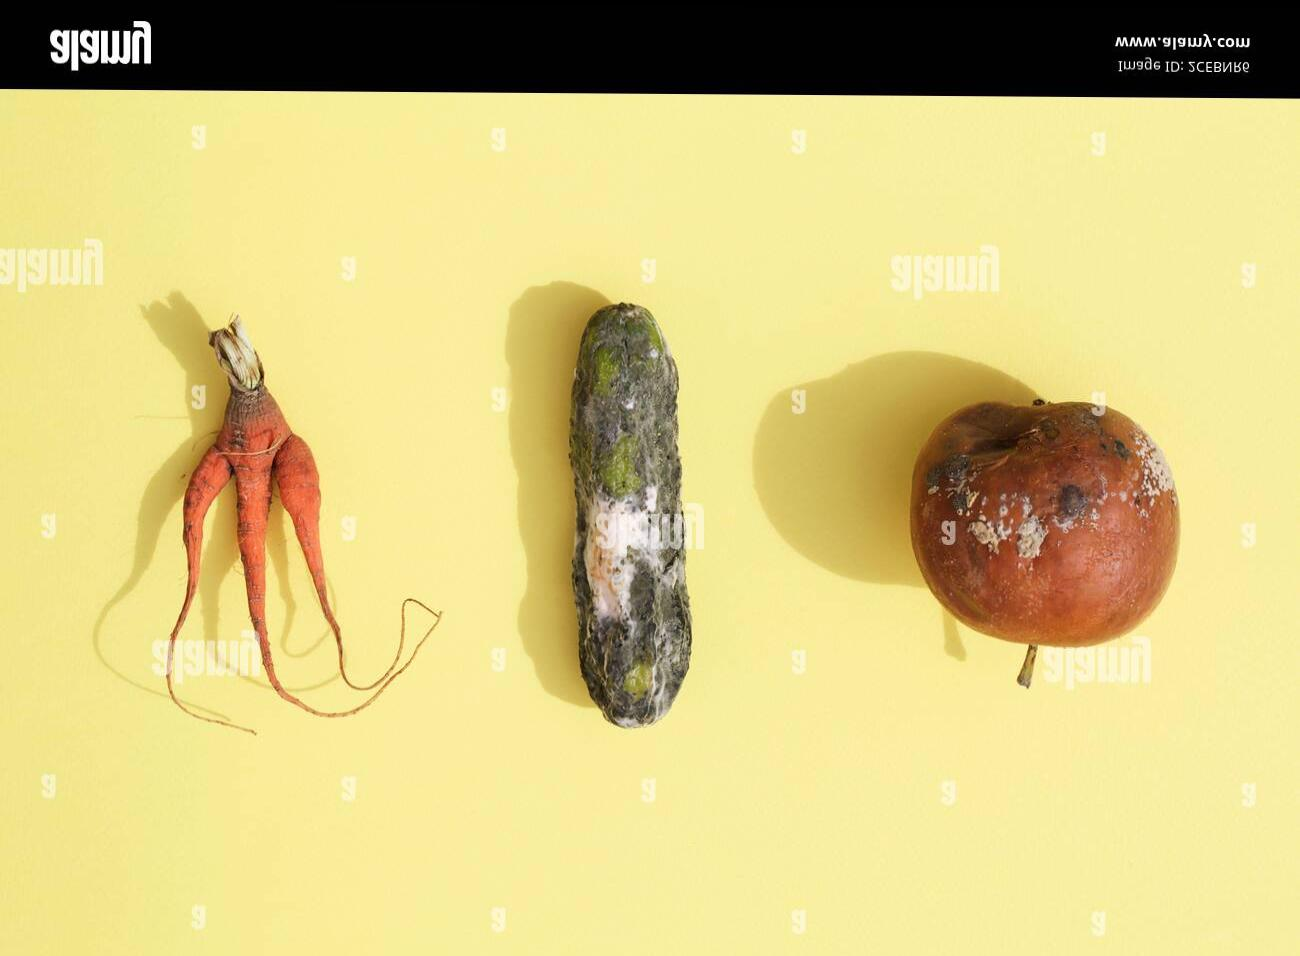organic: (162, 316, 439, 716), (911, 399, 1178, 646), (569, 304, 690, 726), (505, 281, 607, 705)
